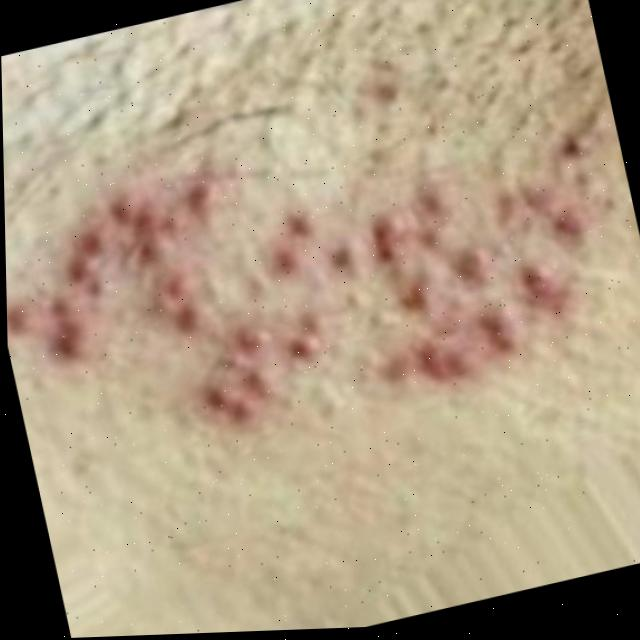Shingles: (2, 89, 626, 484)
